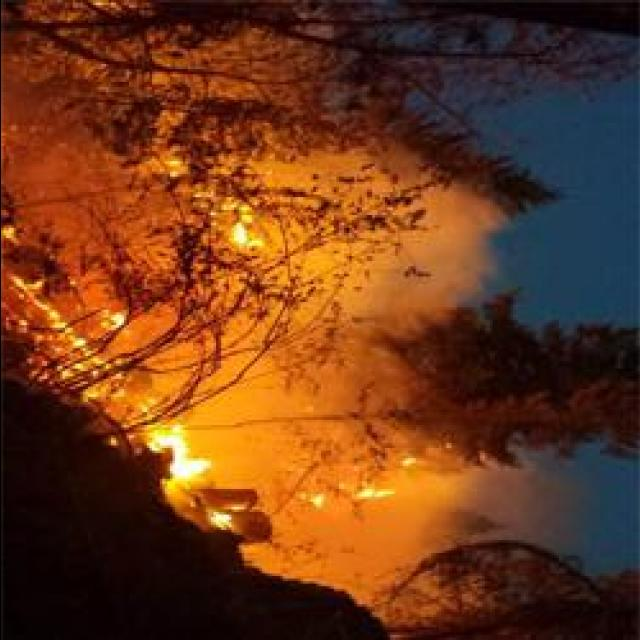fire: (152, 426, 214, 496)
smoke: (418, 186, 514, 302), (370, 482, 450, 558)
